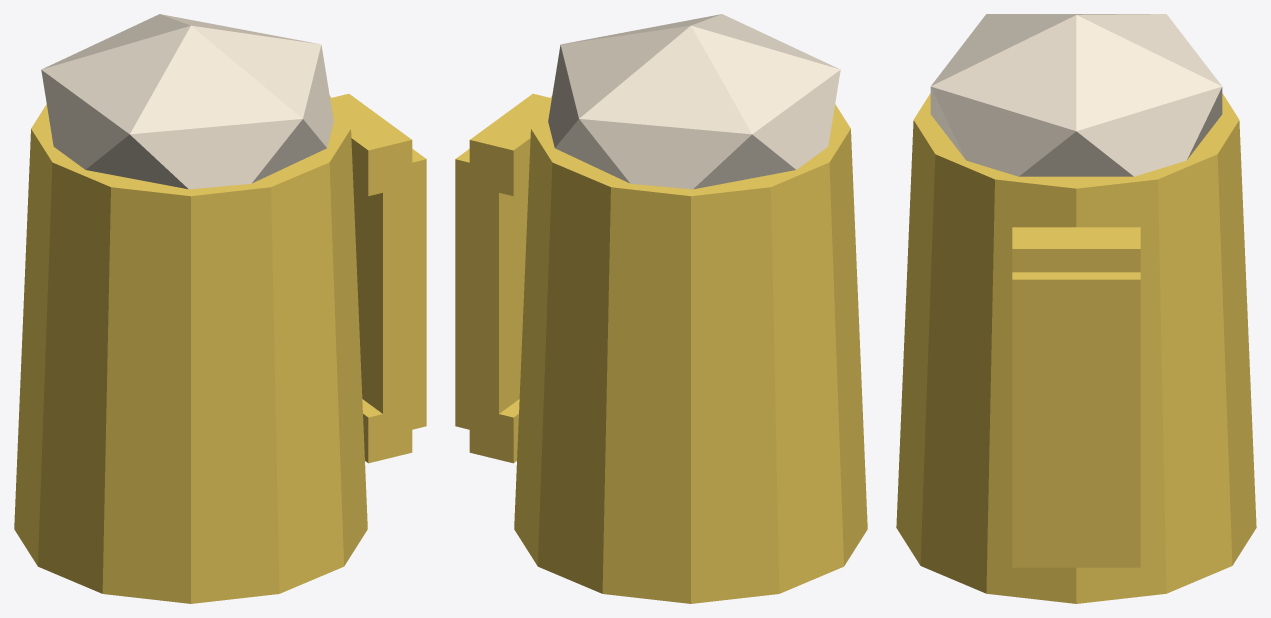
The model's file is beer.glb.
3 views of the same model, side by side, from view 1: azimuth 30°, elevation 25°; view 2: azimuth 150°, elevation 25°; view 3: azimuth 270°, elevation 25° (orthographic).
Parts seen in each view (by area): view 1: prop_beer; view 2: prop_beer; view 3: prop_beer.
Boxes of the visible parts, x1,y1,x2,y2 form: prop_beer: (14,14,426,603); prop_beer: (455,14,867,603); prop_beer: (896,14,1256,603).
Bounding box in the file's own units: 0.098 × 0.132 × 0.084.
